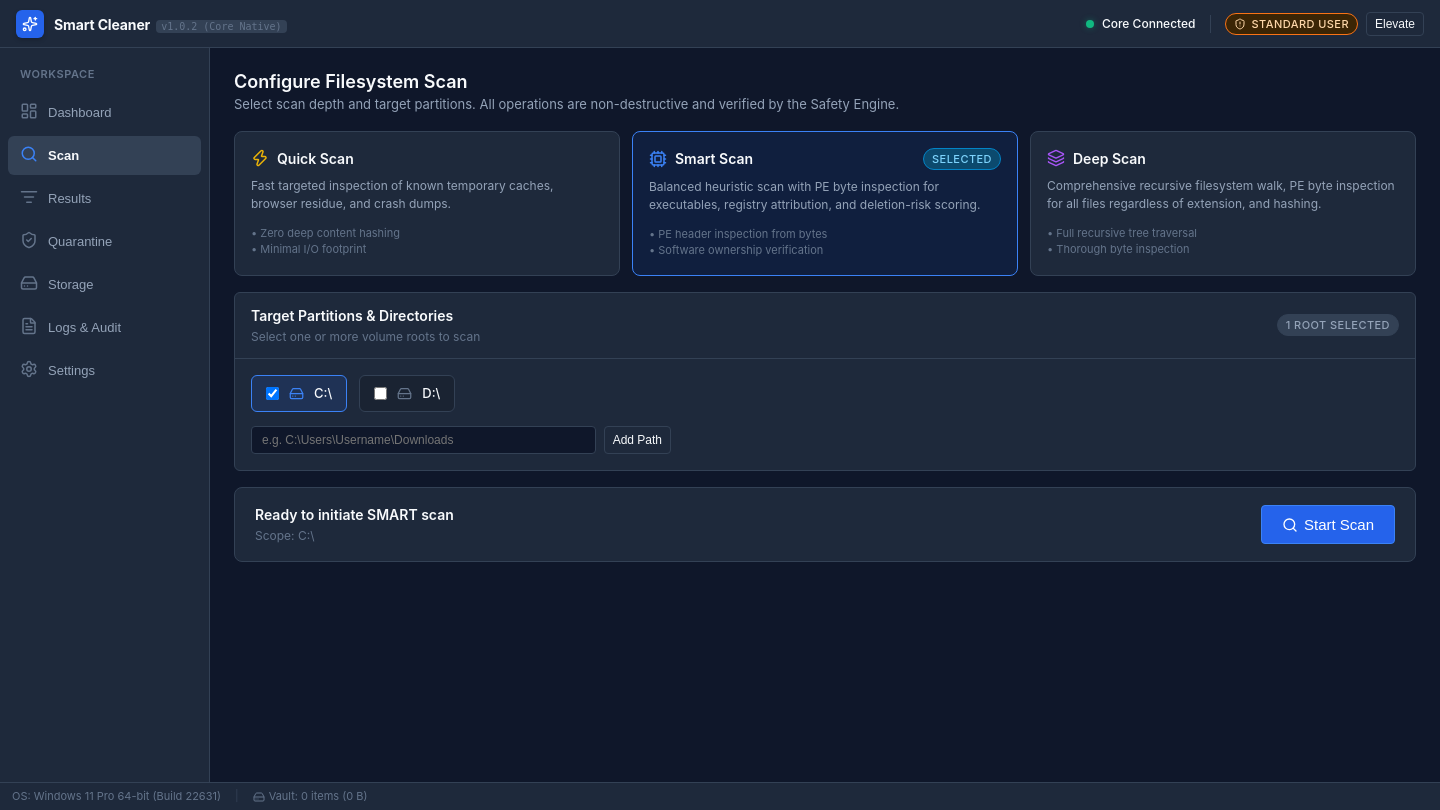
Test case: M3.3 — Scan Workflow & State Machine › allows scan mode selection (Quick, Smart, Deep) and updates selected mode
The image size is (1440, 810).
Expected: the text "Core Connected" is shown, [1102,14,1196,32]
Expected: the heading "Configure Filesystem Scan" is shown, [234,71,468,92]
What coordinates should you click on to do the following:
click the text "Quick Scan"
I would click on:
 (302, 158)
Its box is [251,148,354,168].
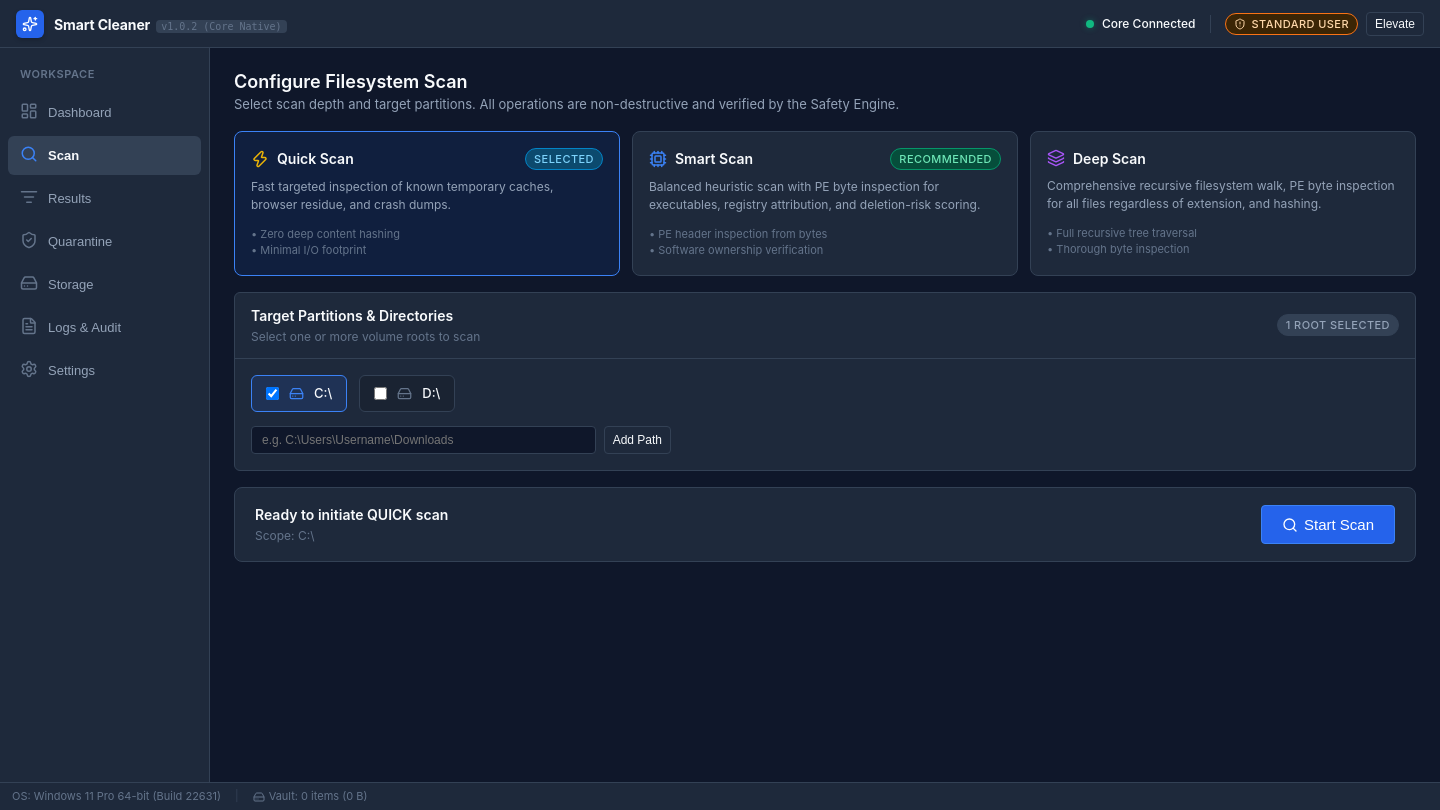
Result: the text "Ready to initiate QUICK scan" is shown at [255,504,448,525]
Result: the text "Recommended" is shown at [890,148,1001,170]
What coordinates should you click on to do the following:
click the text "Deep Scan"
I would click on:
 (1096, 158)
Its box is [1047,148,1146,168].
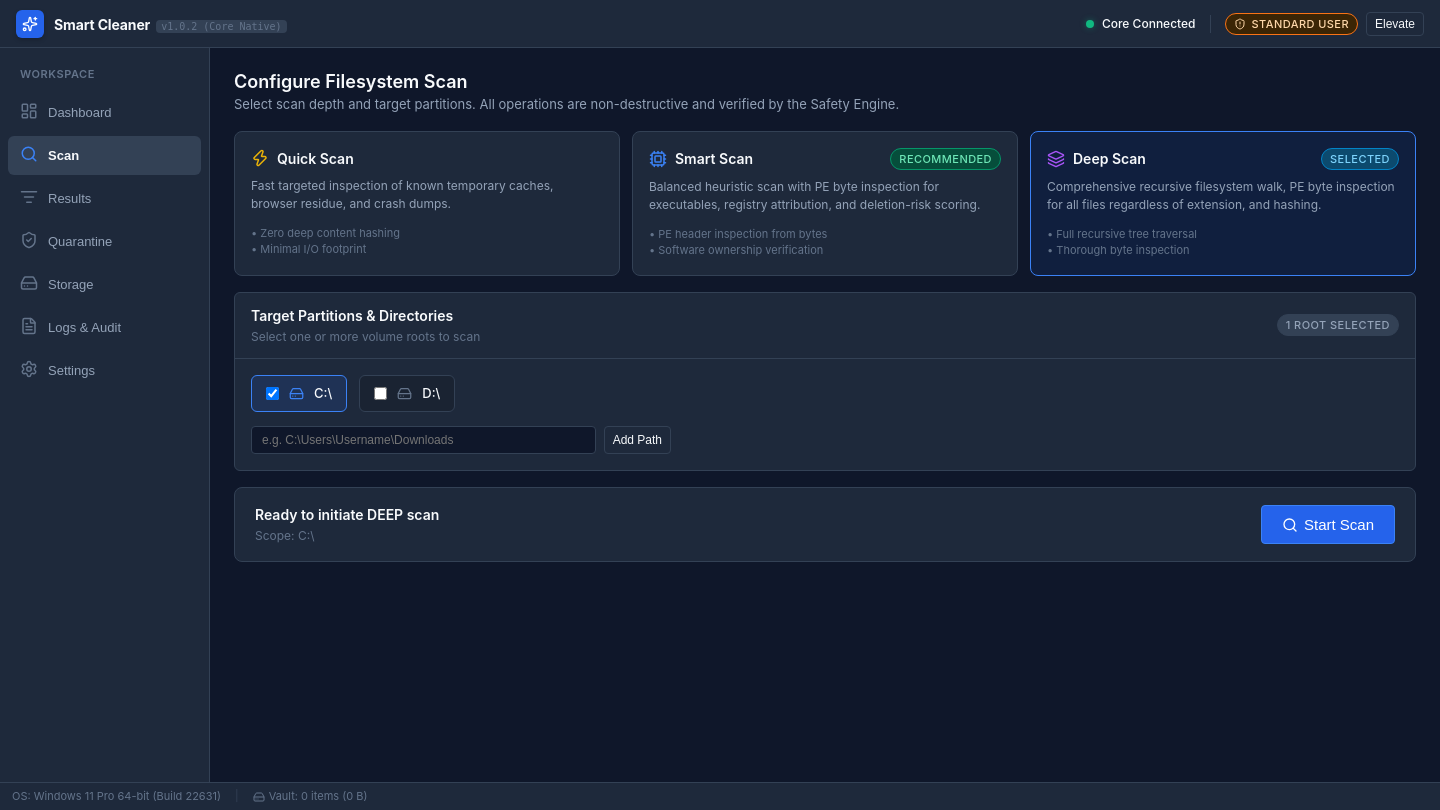
Result: the text "Ready to initiate DEEP scan" is shown at [255,504,439,525]
